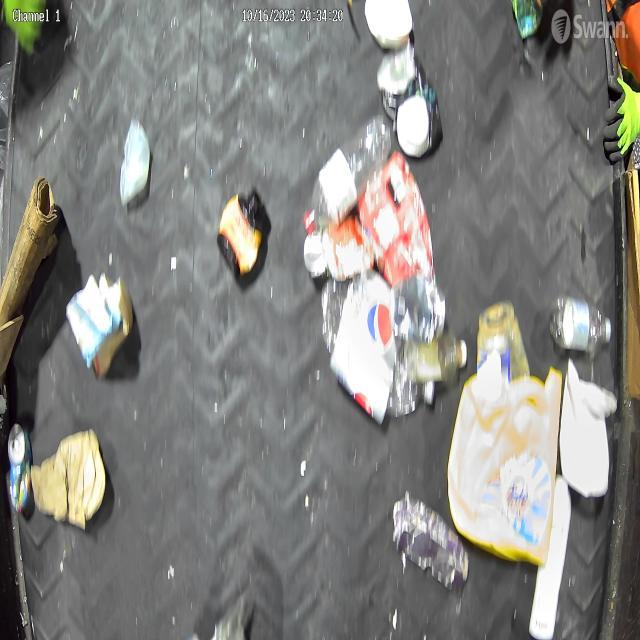can: (388, 480, 471, 592), (374, 43, 446, 160), (5, 418, 32, 519)
milk_jug: (559, 351, 620, 518)
non_white_jug: (445, 346, 563, 578)
plastic_bottle: (318, 263, 439, 432), (304, 116, 390, 244), (545, 286, 614, 361), (410, 324, 470, 390)
